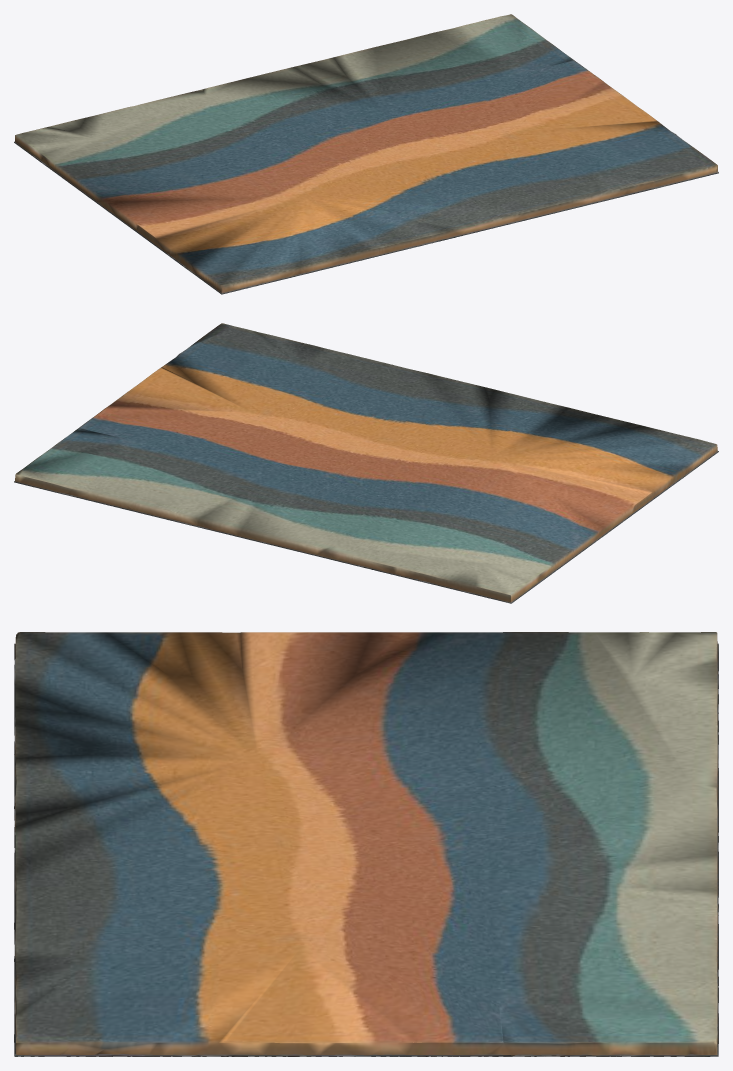
The model's file is textileDecor_doormat_a01.glb.
The picture shows the model from 3 angles, top to bottom: view 1: azimuth 30°, elevation 25°; view 2: azimuth 150°, elevation 25°; view 3: azimuth 270°, elevation 25°; orthographic projection. The views are drawn at different scales.
Parts seen in each view (by area): view 1: sm_textileDecor_doormat_a01_01; view 2: sm_textileDecor_doormat_a01_01; view 3: sm_textileDecor_doormat_a01_01.
Part boxes in pixels (x1=…): sm_textileDecor_doormat_a01_01: x1=14, y1=14, x2=718, y2=294; sm_textileDecor_doormat_a01_01: x1=14, y1=323, x2=718, y2=603; sm_textileDecor_doormat_a01_01: x1=14, y1=632, x2=718, y2=1056.
Bounding box in the file's own units: 1.07 × 0.0171 × 0.7769.
Materials: 1 (1 with a texture image).
